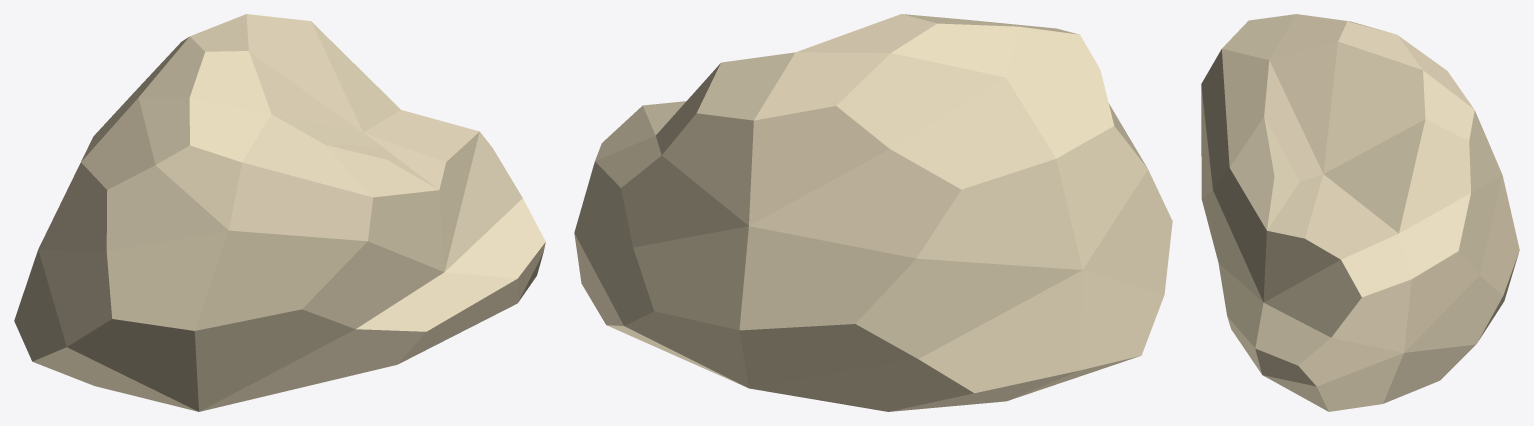
The model's file is Rock_04.fbx.
The picture shows the model from 3 angles, left to right: view 1: azimuth 30°, elevation 25°; view 2: azimuth 150°, elevation 25°; view 3: azimuth 270°, elevation 25°; orthographic projection. The views are drawn at different scales.
Visible parts, largest first — view 1: Rock_04; view 2: Rock_04; view 3: Rock_04.
Boxes of the visible parts, x1,y1,x2,y2 form: Rock_04: [14, 14, 545, 411]; Rock_04: [574, 14, 1172, 411]; Rock_04: [1201, 14, 1519, 411].
Bounding box in the file's own units: 215 × 121 × 137.
